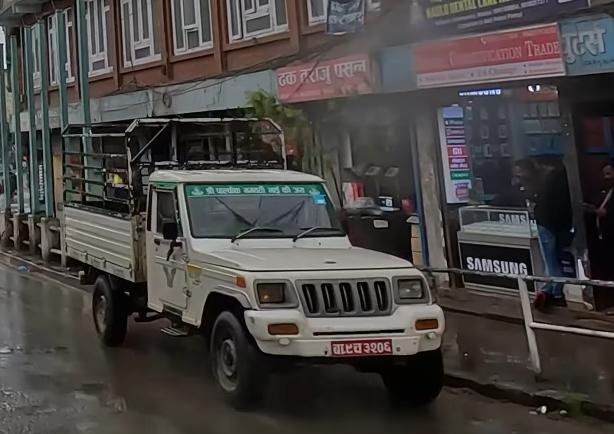transport_vehicle: (58, 118, 448, 412)
